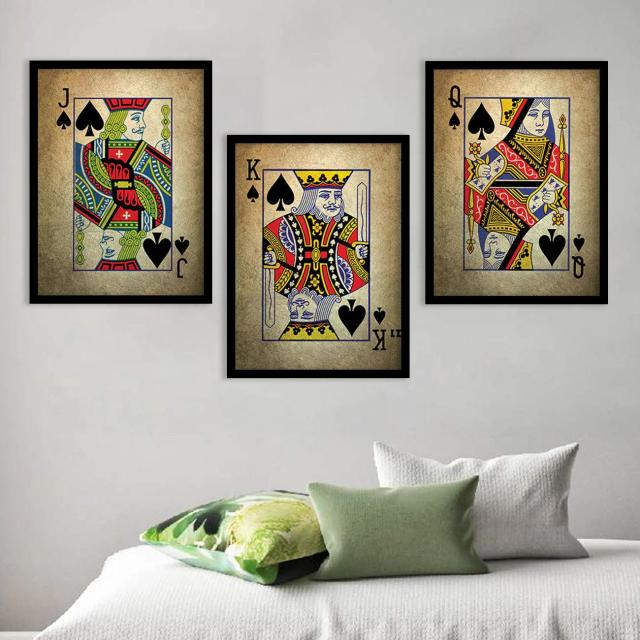painting: (227, 134, 412, 377), (29, 60, 213, 302), (425, 60, 609, 302)
